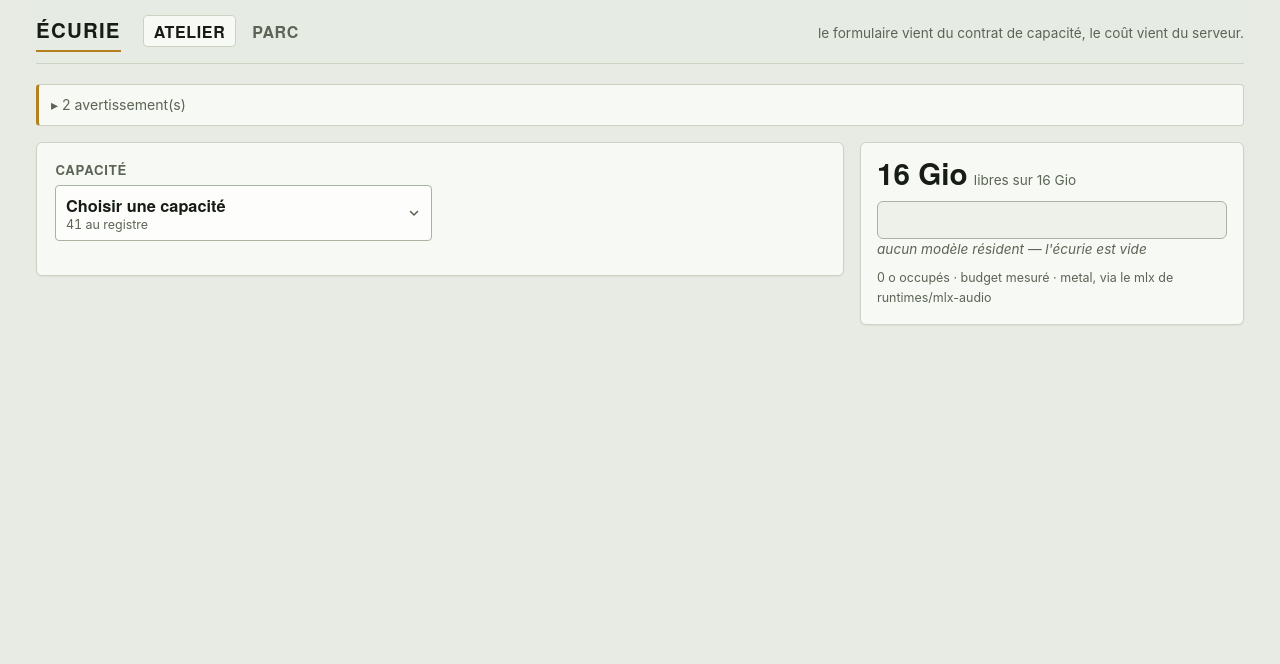
Test case: le choix de la capacité et du variant › une capacite sans variant executable n_en preselectionne aucun
Click the button "Choisir une capacité 41 au registre" at [146, 205], box [55,185,432,241]
(page scrolled)
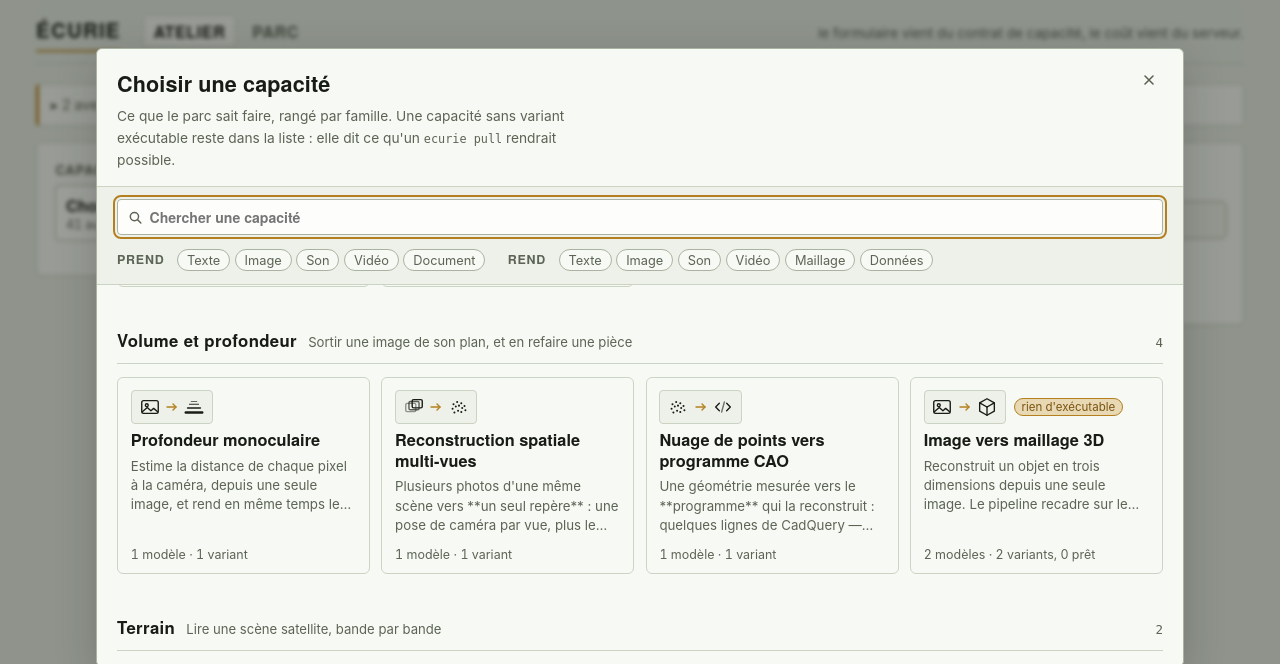
Click the button "Image vers maillage 3D" at [1036, 476], box [910,377,1163,574]
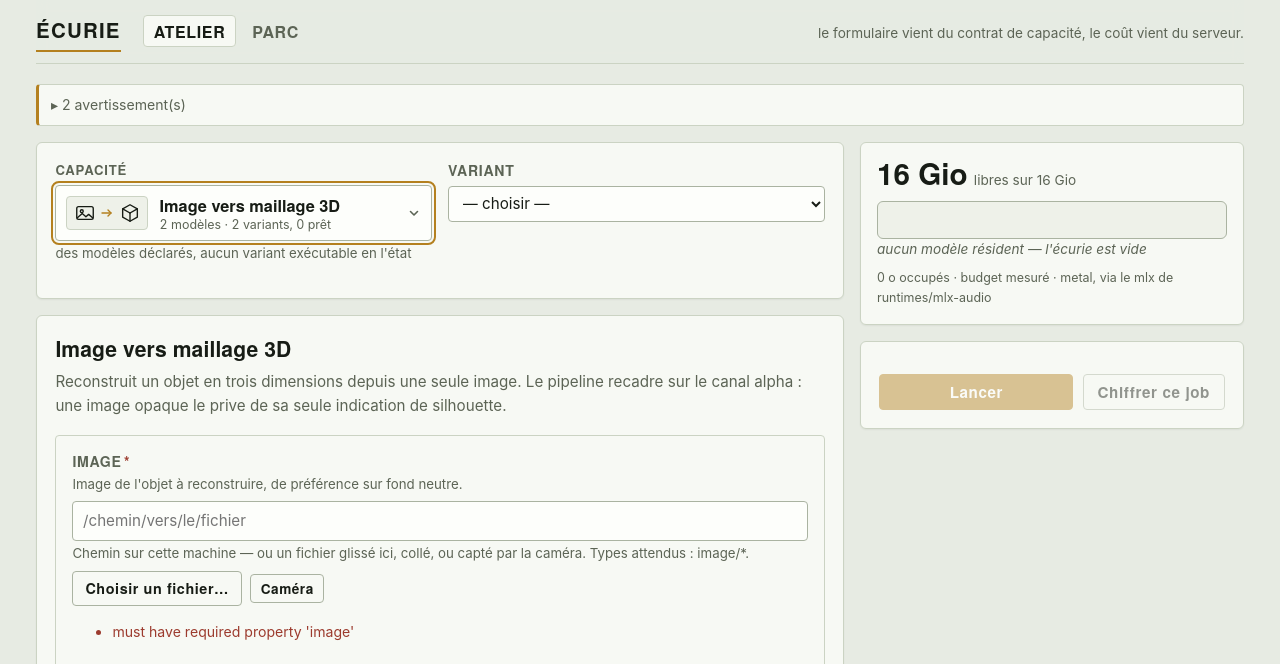
expect the dropdown labelled "Variant" shows "— choisir —": met
Select "mlx-bf16 — non exécutable" in the dropdown labelled "Variant" at [636, 204], box [448,186,825,222]
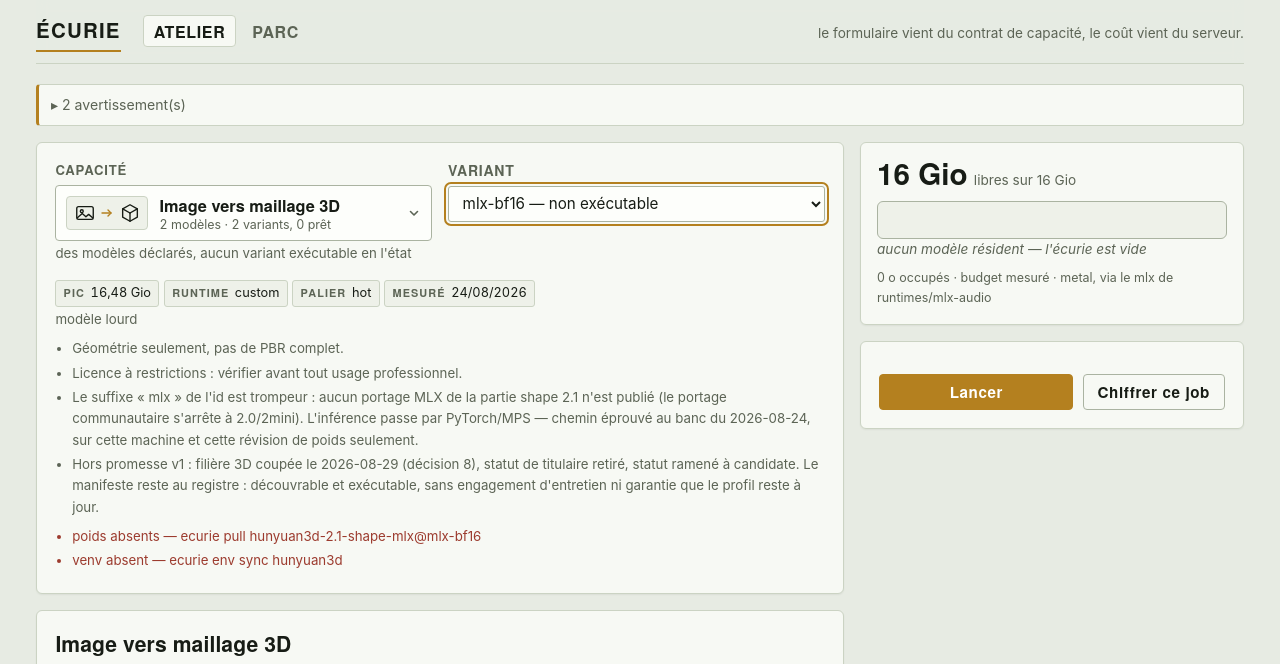
expect the list item "poids absents — ecurie pull hunyuan3d-2.1-shape-mlx@mlx-bf16" is shown: met, box [72,528,481,544]
expect the list item "venv absent — ecurie env sync hunyuan3d" is shown: met, box [72,552,342,568]
